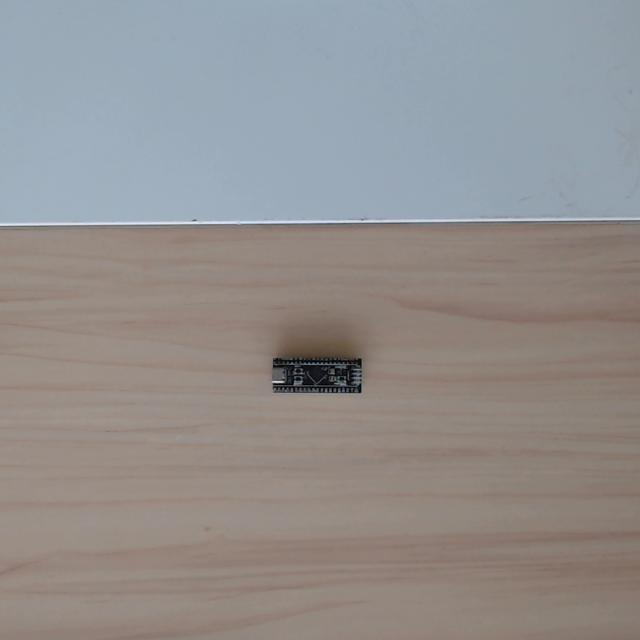STM32-Blackpill: (271, 358, 365, 397)
